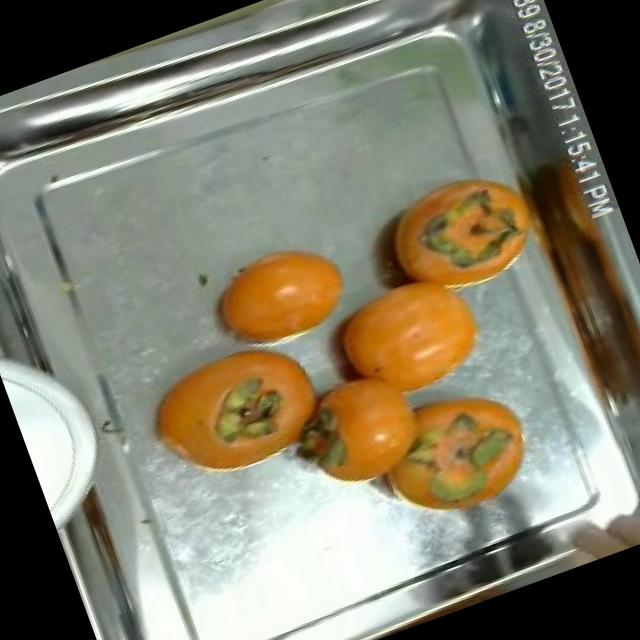Fruit: (114, 316, 354, 514), (348, 365, 558, 549), (314, 248, 510, 425), (180, 220, 365, 369), (395, 151, 550, 304)
